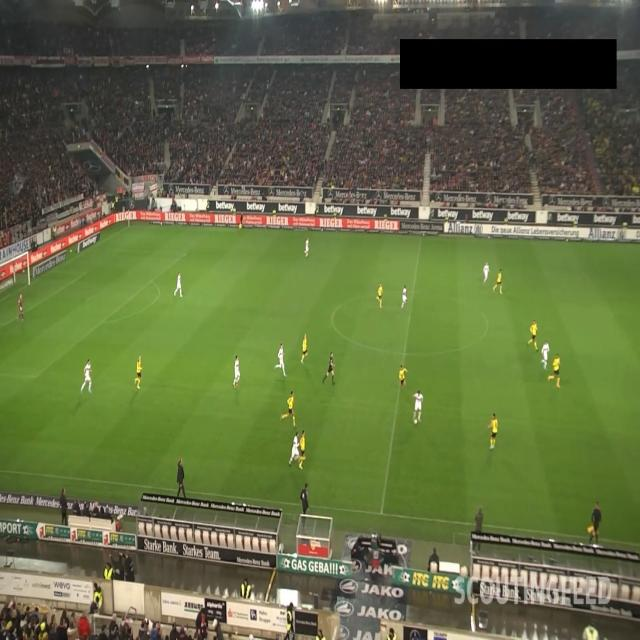ball: (413, 417, 418, 425)
